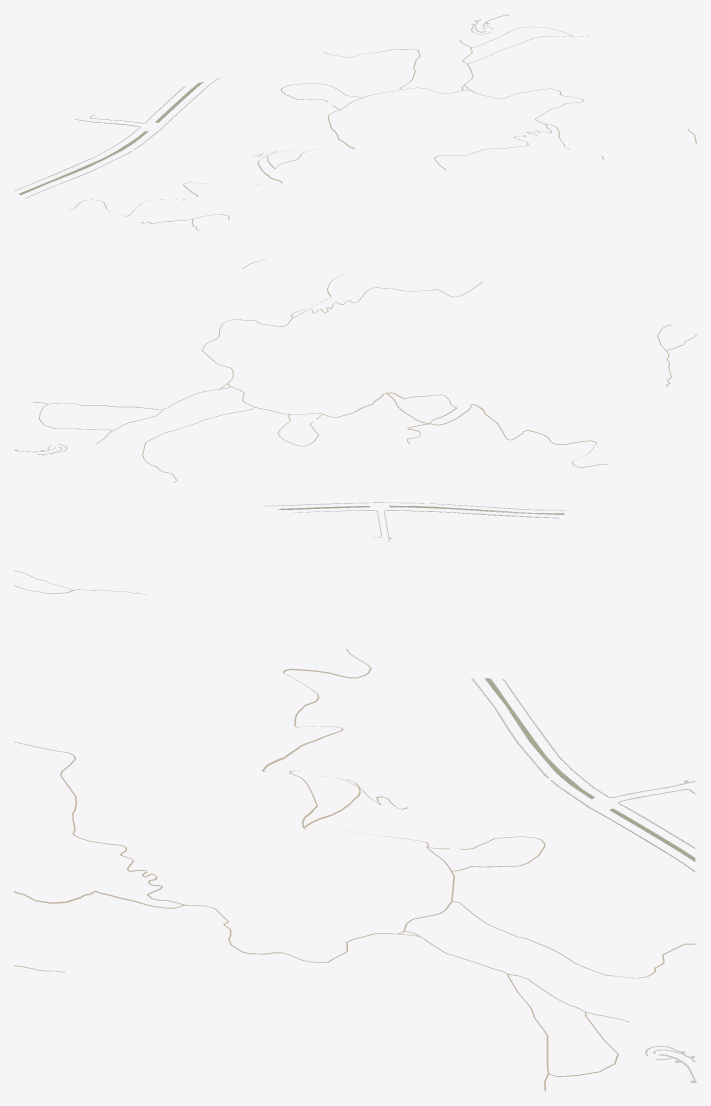
Rendered from ground_r7_c4.glb.
3 views of the same model, one above another, from view 1: azimuth 30°, elevation 25°; view 2: azimuth 150°, elevation 25°; view 3: azimuth 270°, elevation 25° (orthographic). The views are drawn at different scales.
Parts seen in each view (by area): view 1: paths, sidewalks, medians; view 2: paths, sidewalks, medians; view 3: paths, sidewalks, medians.
Part boxes in pixels (bbox=[...]): paths: bbox=[70, 25, 696, 230]; sidewalks: bbox=[14, 15, 504, 198]; medians: bbox=[19, 82, 202, 195]; paths: bbox=[33, 259, 696, 482]; sidewalks: bbox=[17, 446, 568, 541]; medians: bbox=[278, 505, 564, 514]; paths: bbox=[14, 570, 695, 1091]; sidewalks: bbox=[471, 678, 695, 1080]; medians: bbox=[484, 678, 695, 861].
Size of the model in its own units: 1125 by 175 by 789.
